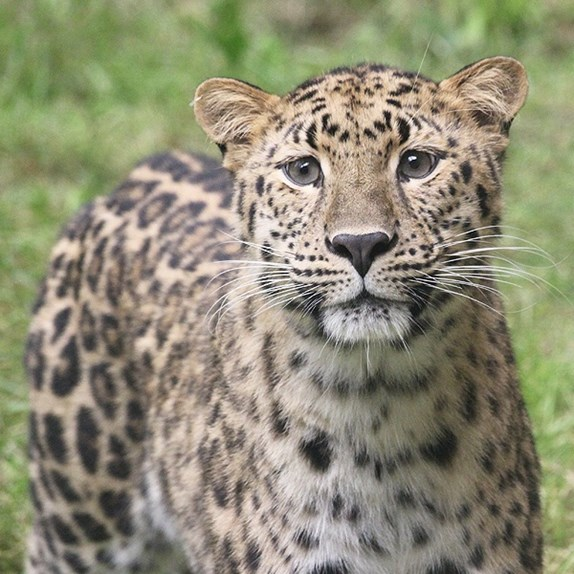amur_leopard: (141, 33, 541, 574)
